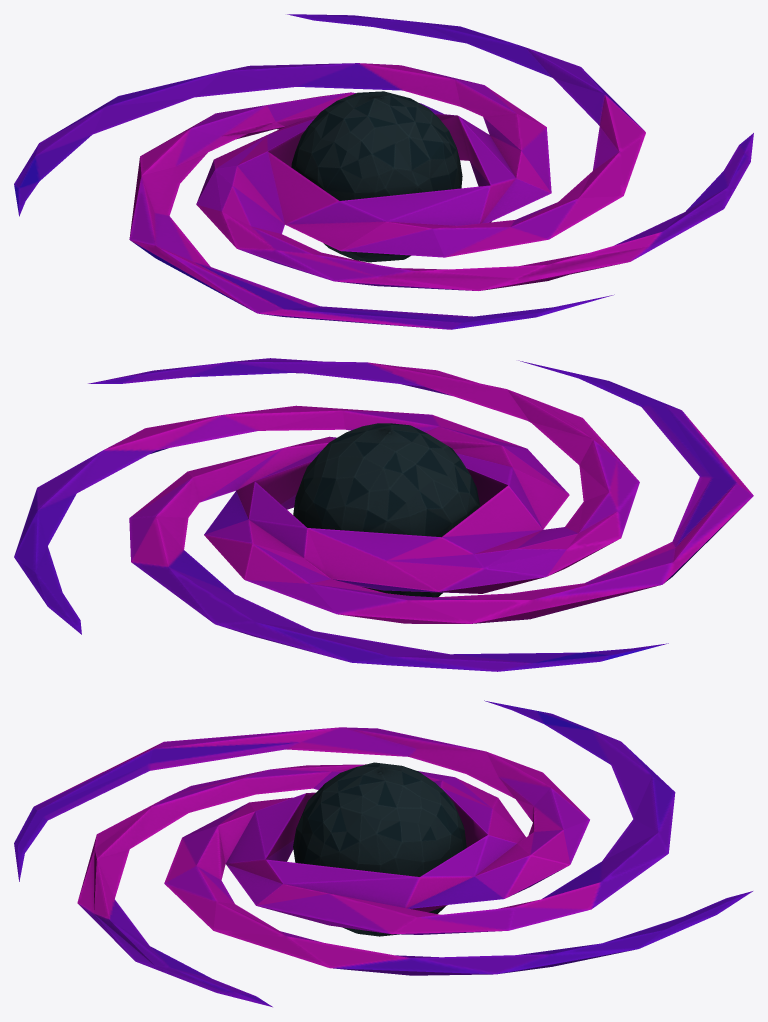
File: Blackhole.fbx
3 views of the same model, one above another, from view 1: azimuth 30°, elevation 25°; view 2: azimuth 150°, elevation 25°; view 3: azimuth 270°, elevation 25° (orthographic). The views are drawn at different scales.
Visible parts, largest first — view 1: BlackHole; view 2: BlackHole; view 3: BlackHole.
Boxes of the visible parts, <box> form: BlackHole: <box>14,14,753,329</box>; BlackHole: <box>14,358,753,671</box>; BlackHole: <box>14,700,752,1007</box>.
Size of the model in its own units: 3091 by 738 by 3090.
